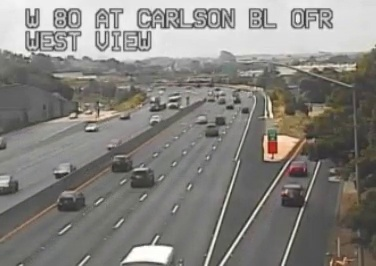car: (281, 184, 304, 207), (57, 190, 83, 210), (130, 168, 152, 187), (111, 155, 131, 171), (288, 161, 305, 176)
